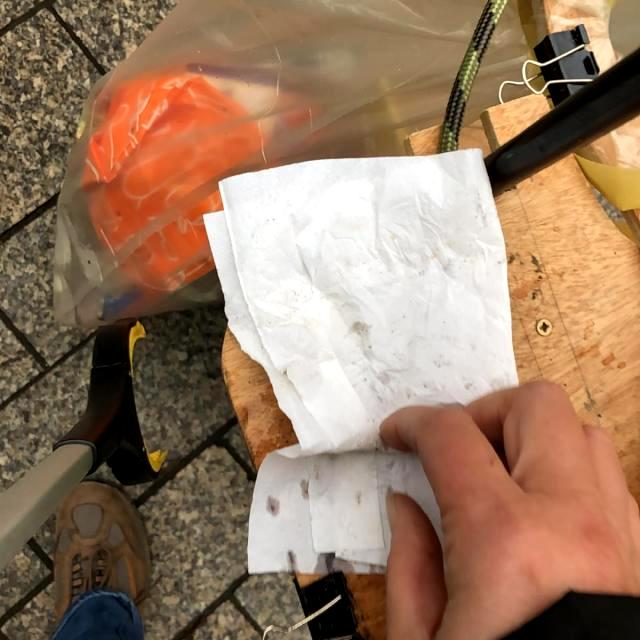Paper: (202, 146, 522, 578)
